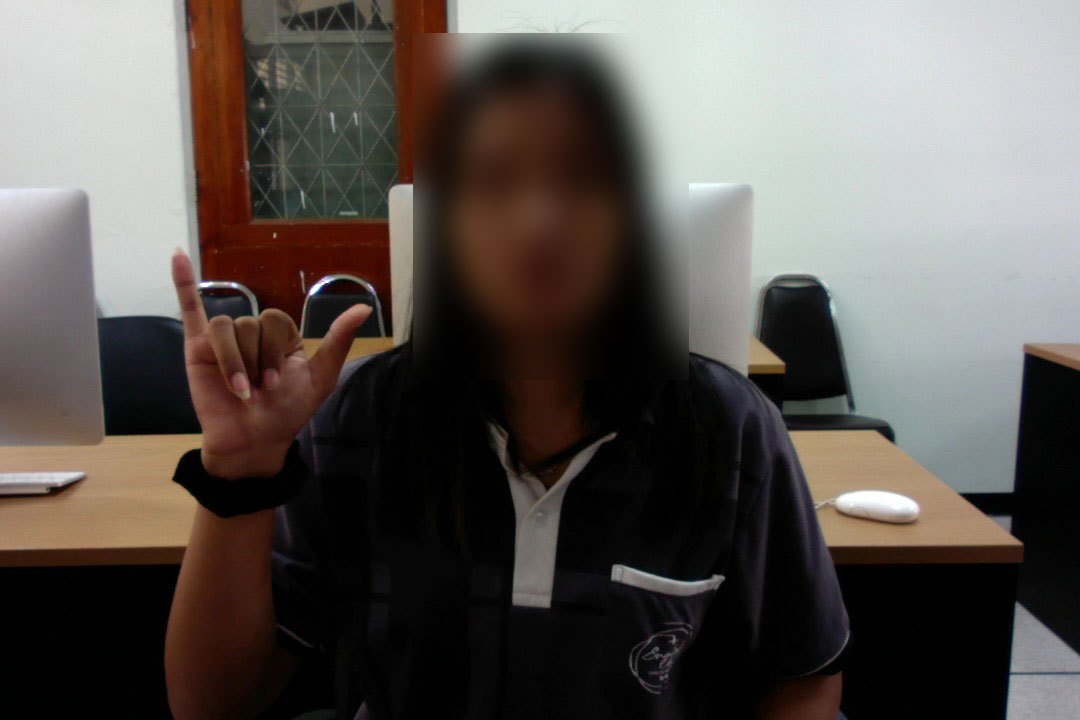yor: (160, 238, 378, 458)
